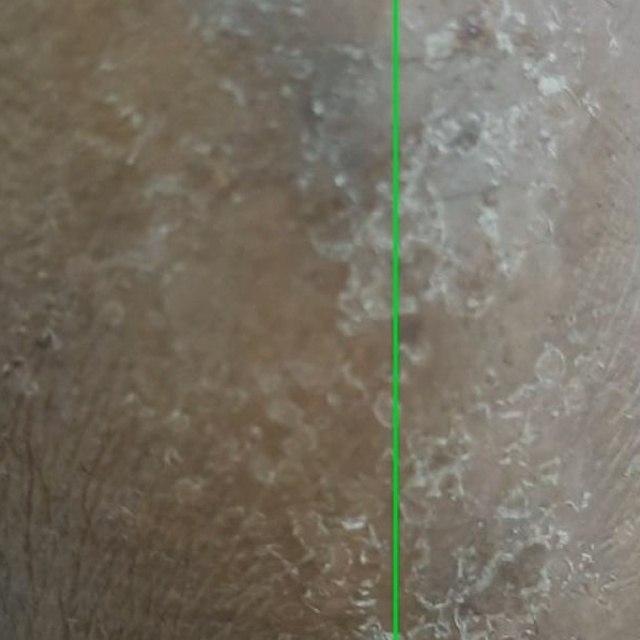Eczema: (0, 0, 395, 639)
